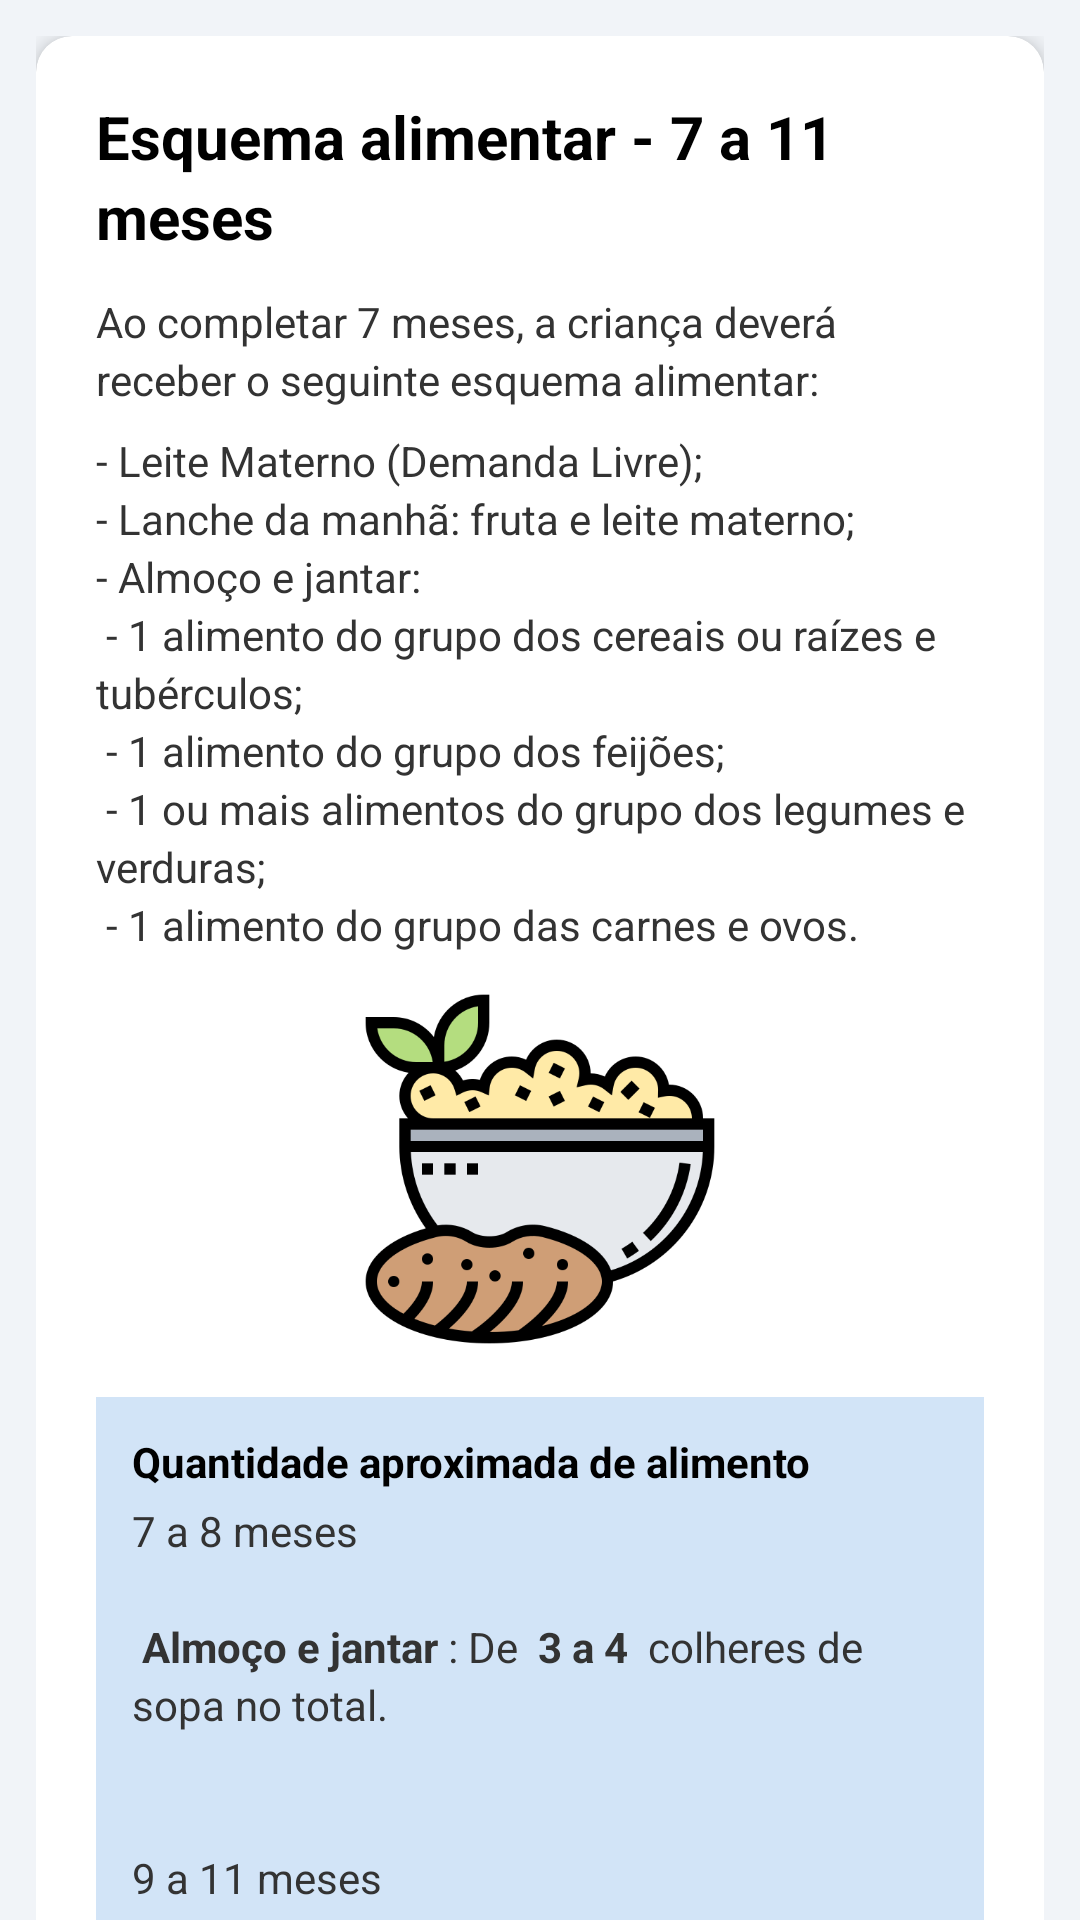

Icons on this 1080*1920 Android screen, each with its box as [left=x1, top=y1, right=x2, bottom=y2]:
Imagem de comida: [left=365, top=994, right=715, bottom=1344]
